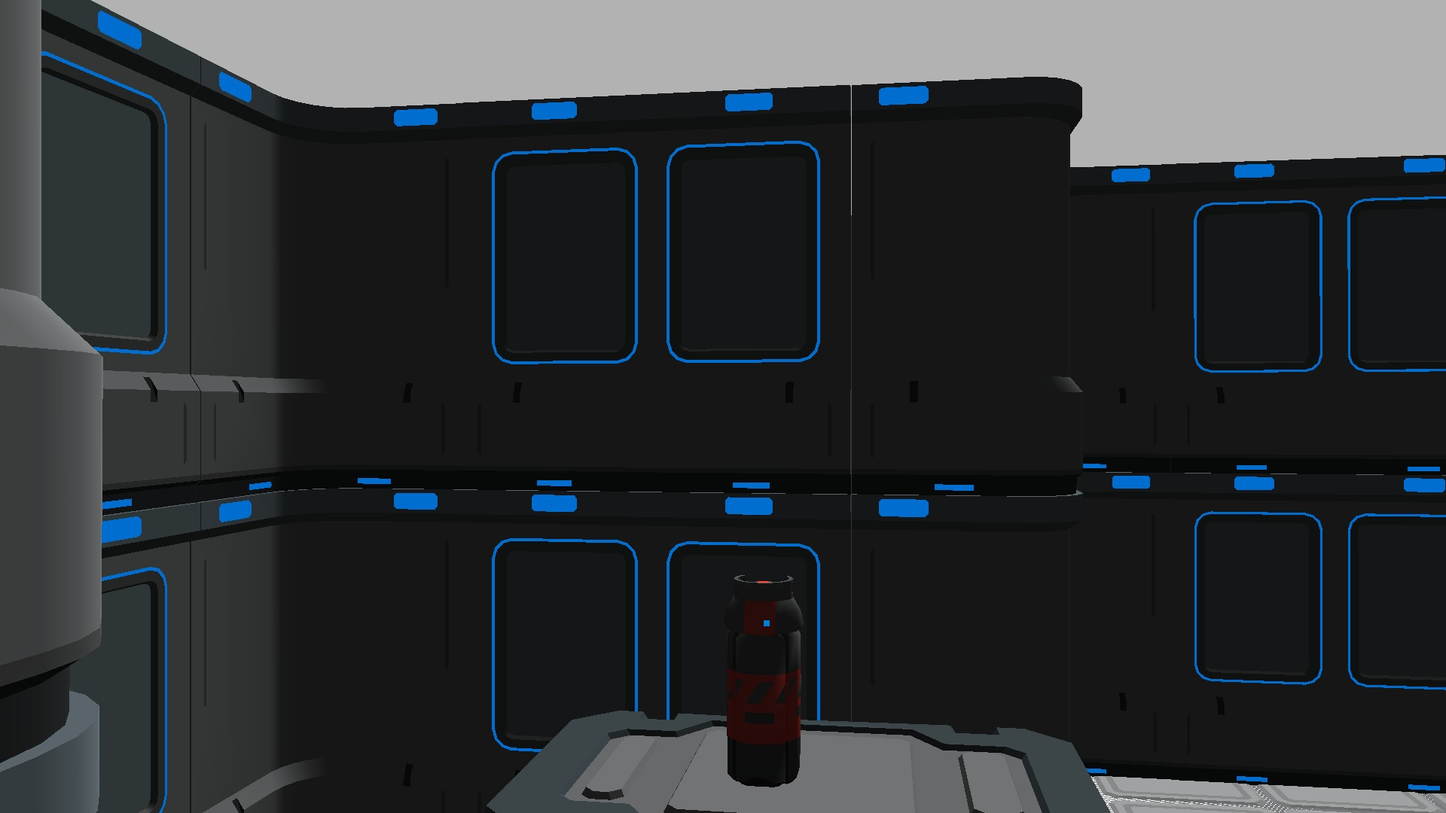red barrel: (726, 575, 801, 787)
